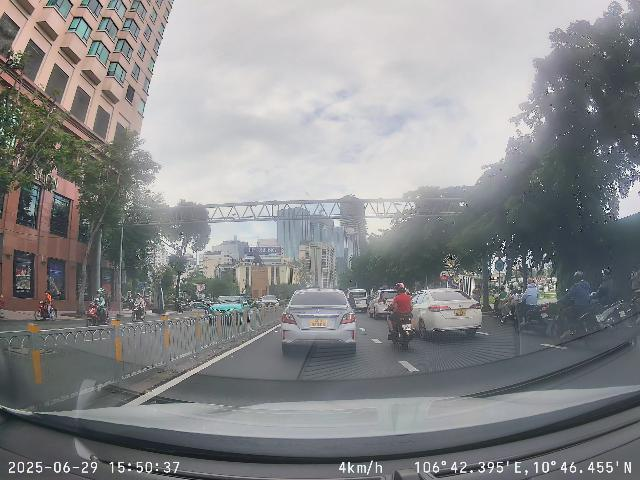303-noi-giao-nhau-chay-theo-vong-xuyen: (495, 259, 505, 272)
